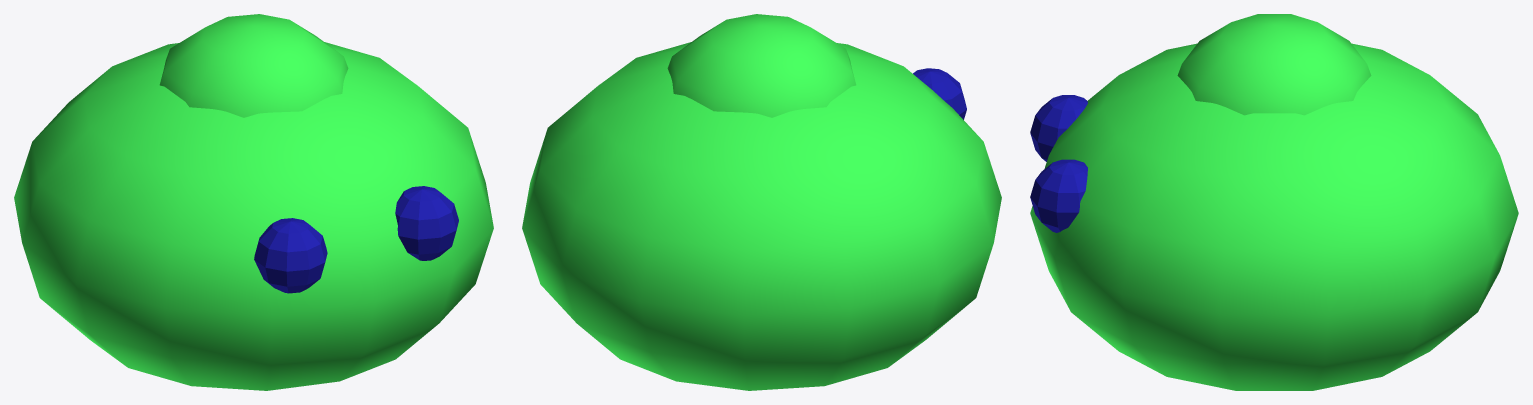
Rendered from slime.obj.
3 views of the same model, side by side, from view 1: azimuth 30°, elevation 25°; view 2: azimuth 150°, elevation 25°; view 3: azimuth 270°, elevation 25° (orthographic).
Visible parts, largest first — view 1: slime; view 2: slime; view 3: slime.
Boxes of the visible parts, x1,y1,x2,y2 form: slime: [14, 14, 493, 390]; slime: [522, 14, 1001, 390]; slime: [1030, 14, 1518, 390].
Bounding box in the file's own units: 0.624 × 0.4896 × 0.64.
